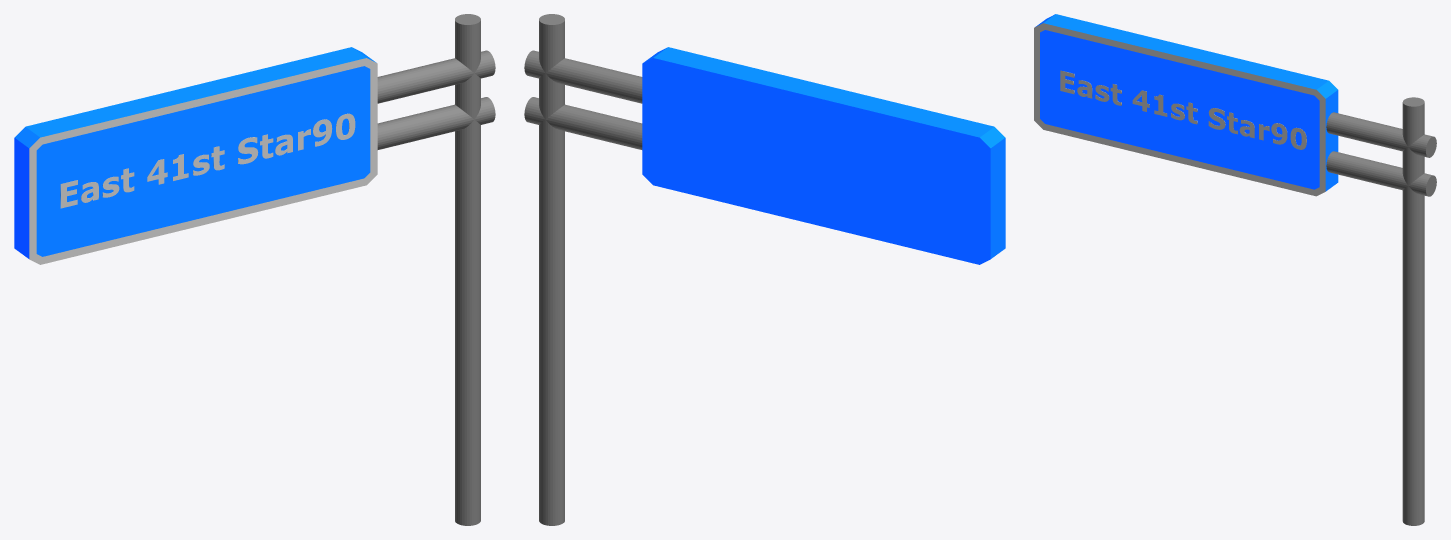
File: Levha.fbx
3 views of the same model, side by side, from view 1: azimuth 30°, elevation 25°; view 2: azimuth 150°, elevation 25°; view 3: azimuth 330°, elevation 25° (orthographic). The views are drawn at different scales.
Parts seen in each view (by area): view 1: Levha; view 2: Levha; view 3: Levha.
Boxes of the visible parts, x1,y1,x2,y2 form: Levha: [14, 14, 495, 525]; Levha: [524, 14, 1005, 525]; Levha: [1034, 14, 1436, 525].
Bounding box in the file's own units: 553 × 567 × 30.97.
